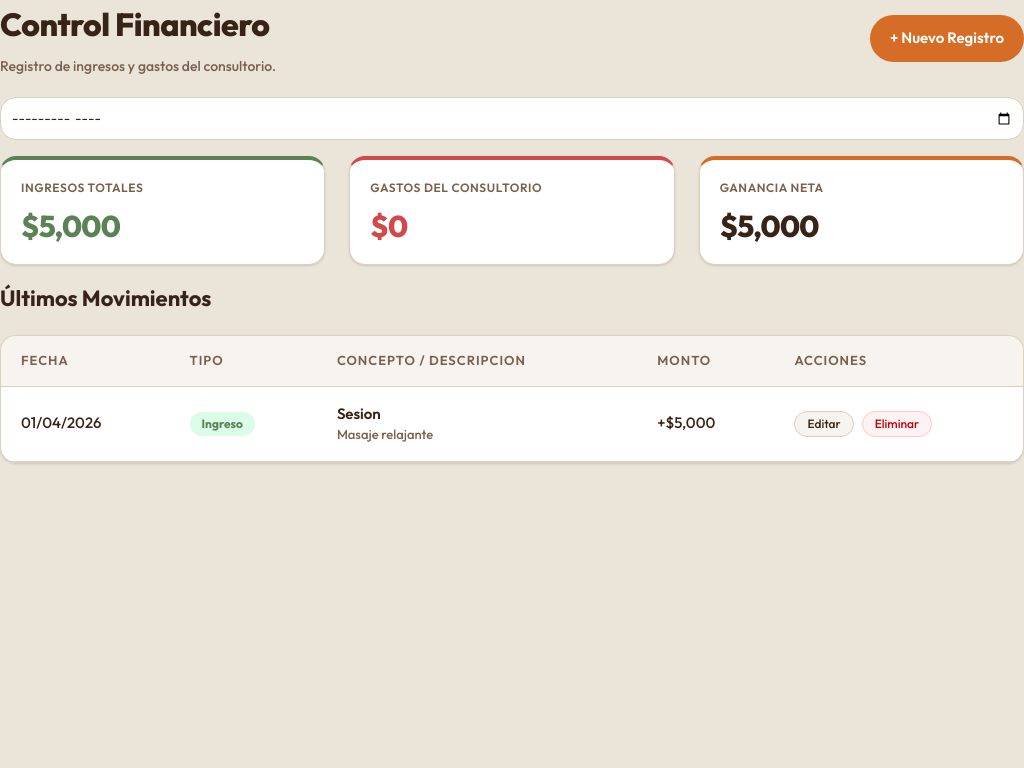
it: D28 — Independent submitting states › submitting edit form does not disable create form button
Expected: the text "Sesion" is shown, [337, 404, 381, 422]
Click the button "+ Nuevo Registro" at (947, 39), box [870, 15, 1023, 62]
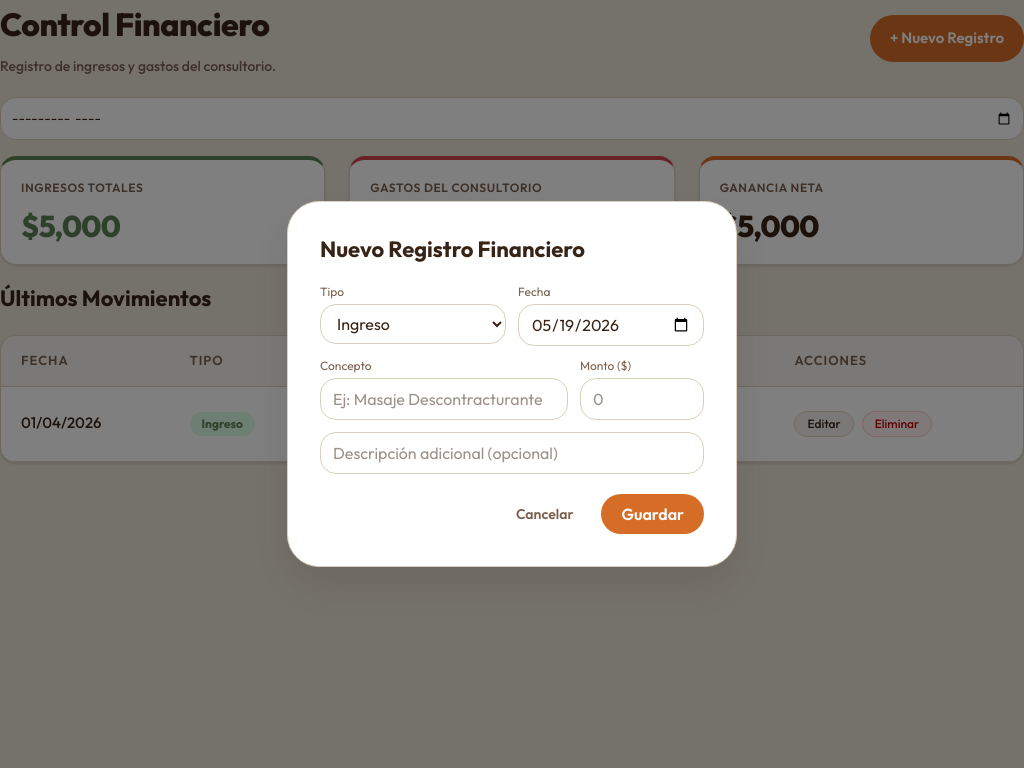
Expected: the element with class "modal-overlay" is shown
Type "TestCategory" into the field named "category" at (444, 399), box [320, 378, 568, 420]
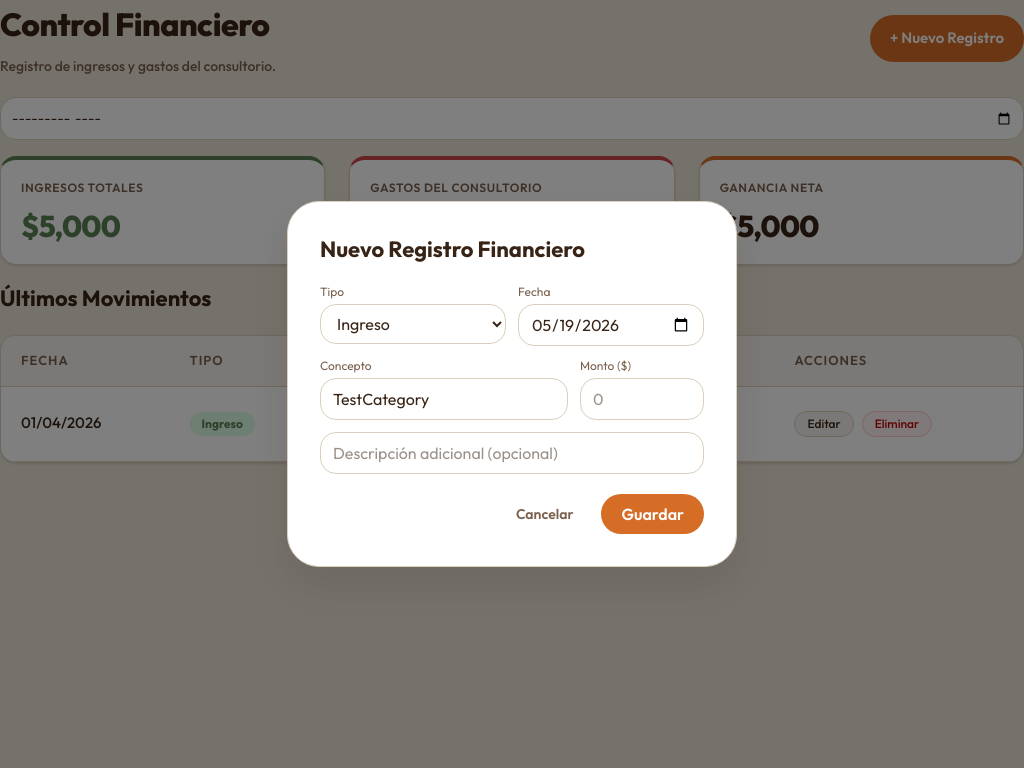
Type "1000" into the number field named "amount" at (642, 399), box [580, 378, 704, 420]
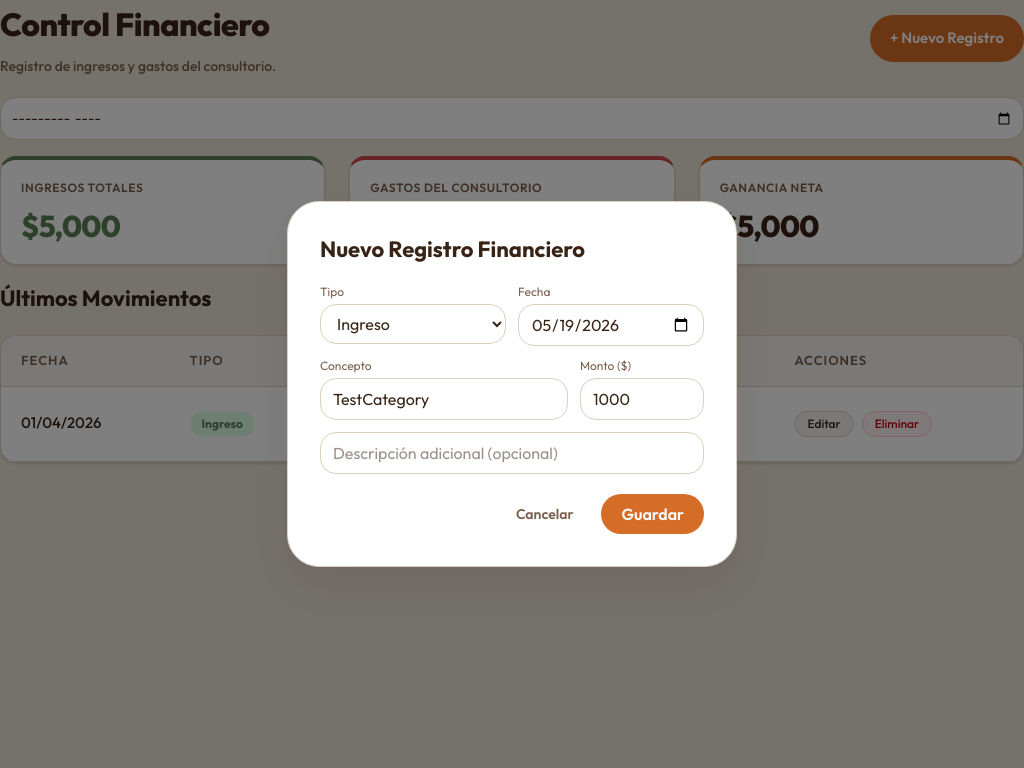
Submit the form, box [320, 284, 704, 534]
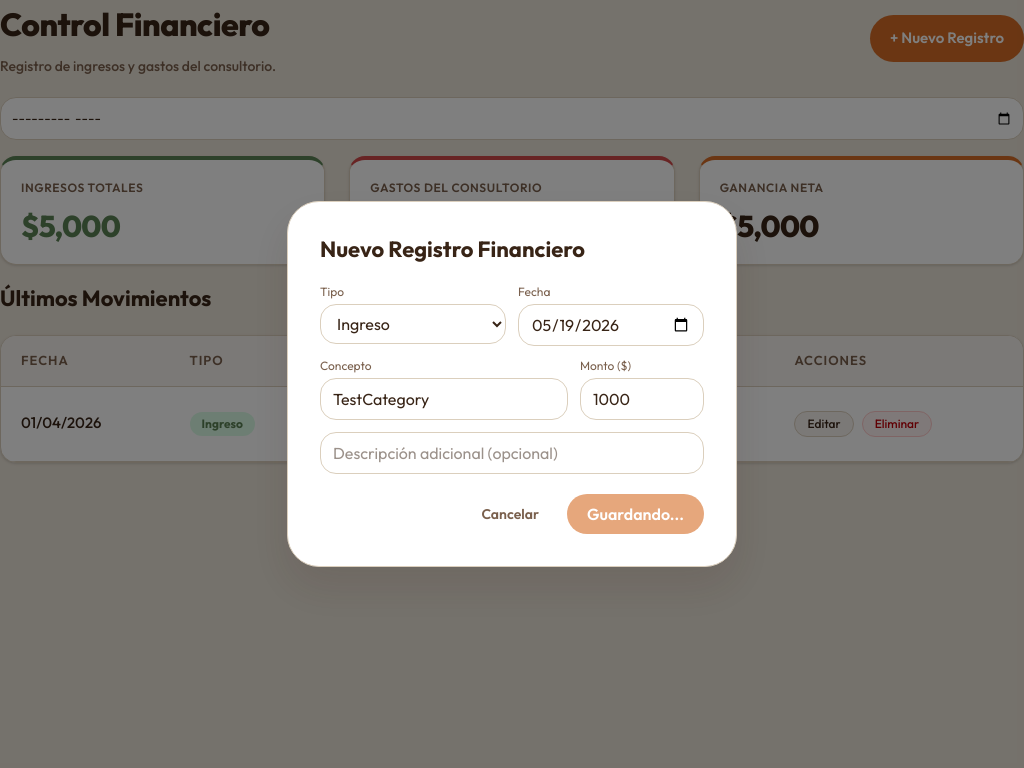
Expected: the number of buttons "Guardando..." is 1, [567, 494, 704, 534]
Click the button "Cancelar" at (510, 514), box [465, 494, 555, 534]
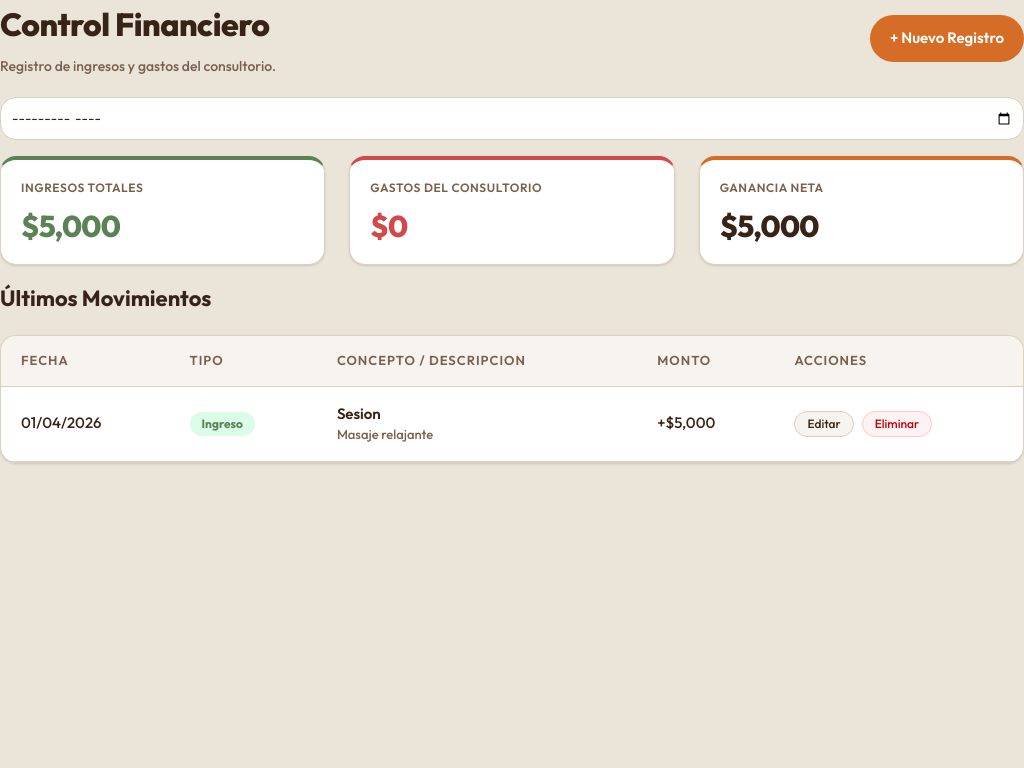
Click the button "Editar" at (824, 424), box [794, 410, 854, 436]
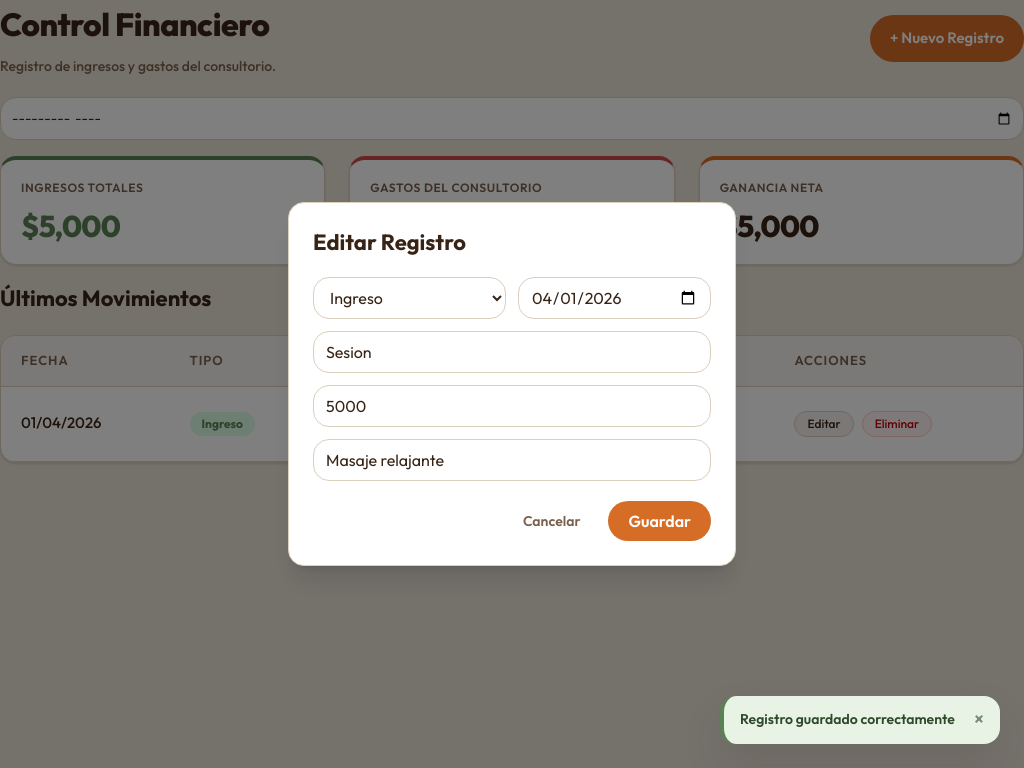
Expected: the heading "Editar Registro" is shown, [313, 228, 466, 256]
Expected: the button "Guardar" is enabled, [608, 501, 711, 541]
